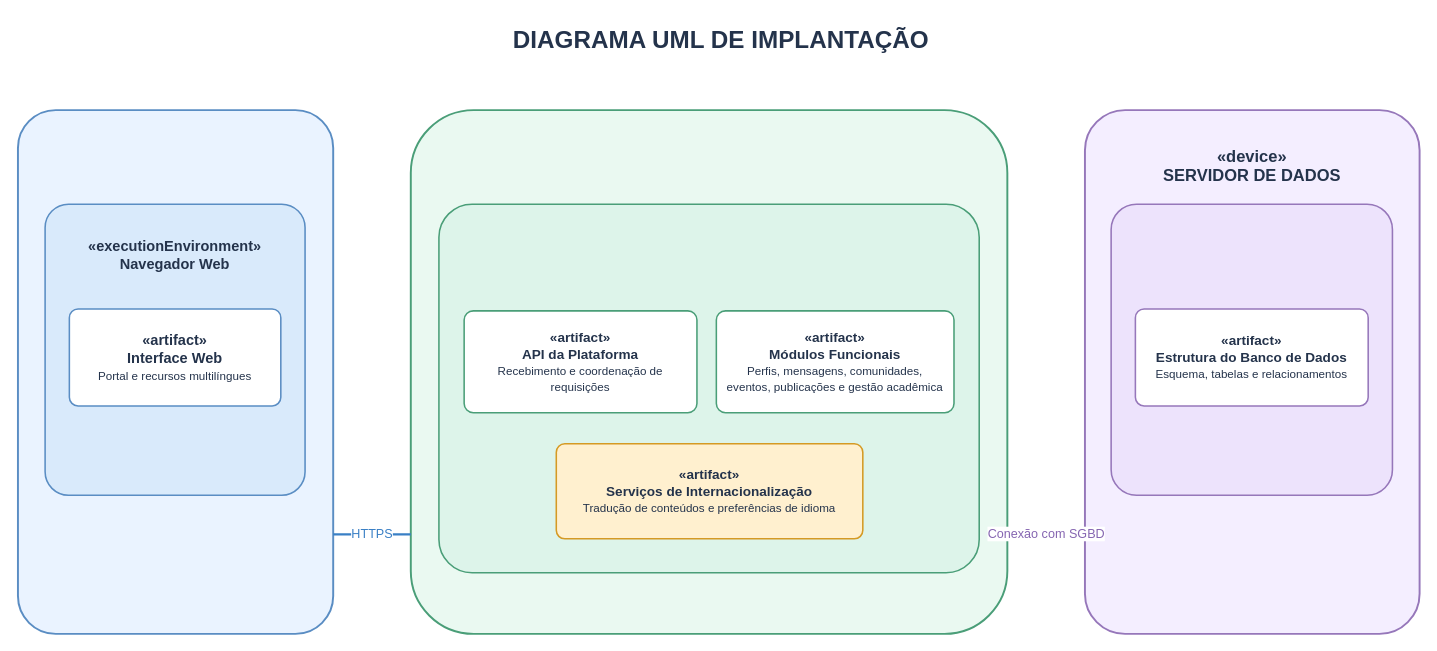
The diagram is 1437 pixels wide and 651 high, and some of its shapes have lost their labels. Here are the shapes that lost their labels. From the top down, the box of each, then its label:
(1110, 203, 1393, 495): «executionEnvironment» Sistema Gerenciador de Banco de Dados
(16, 109, 334, 634): «device» DISPOSITIVO DO USUÁRIO
(409, 109, 1008, 634): «device» SERVIDOR DA APLICAÇÃO
(438, 203, 980, 573): «executionEnvironment» Ambiente de Execução da Aplicação
